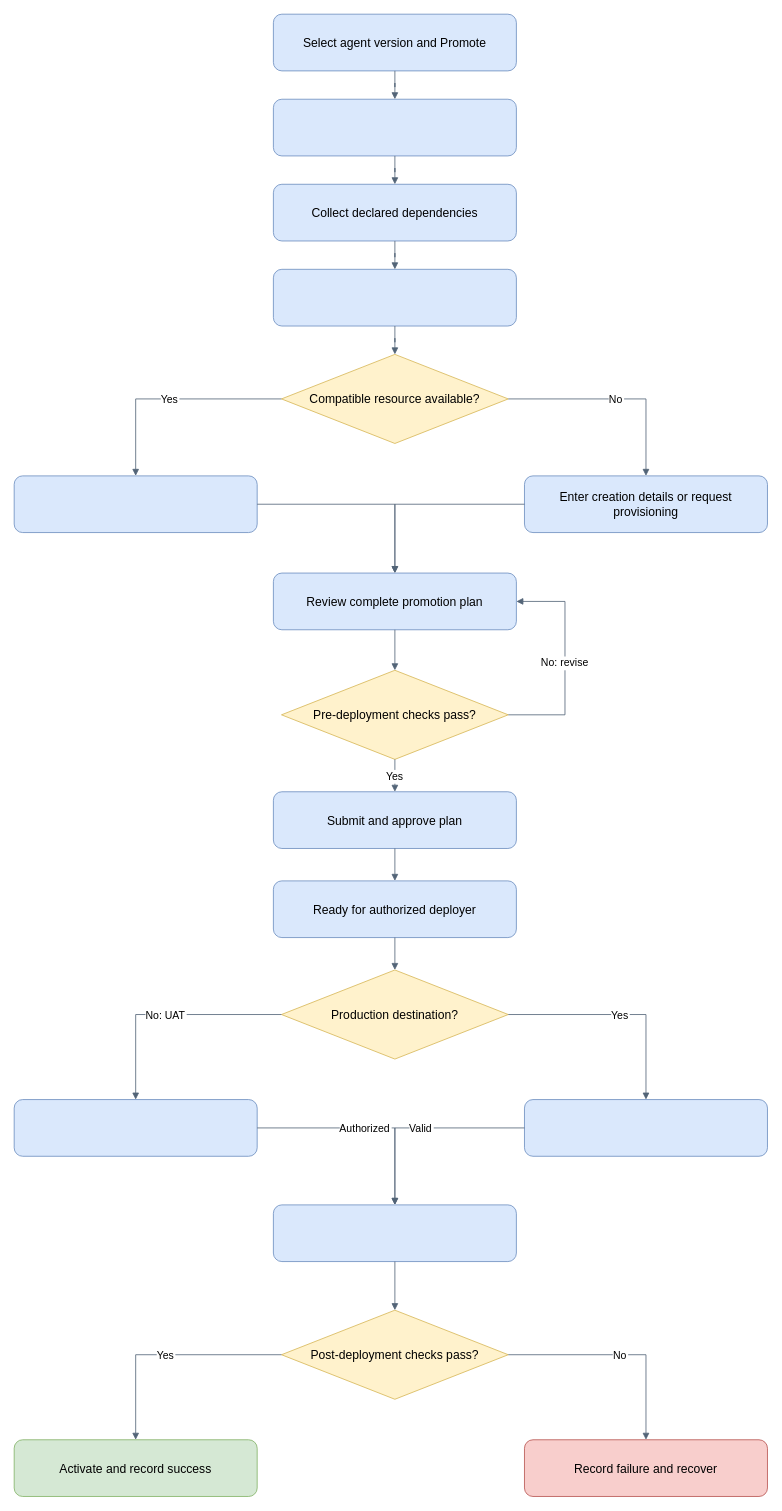
The diagram is 782 pixels wide and 1511 high, and some of its shapes have lost their labels. The centre of each missing label's shape, as x and y in pixels:
"Discover destination resources" goes at point (394, 297).
"Prepopulate existing binding" goes at point (135, 504).
"Prod Deployer provides Ctask; validate ServiceNow gate" goes at point (645, 1127).
"Recheck approved plan and execute deployment" goes at point (394, 1233).
"Resolve next allowed environment" goes at point (394, 127).
"Validate UAT deployment authorization" goes at point (135, 1127).
